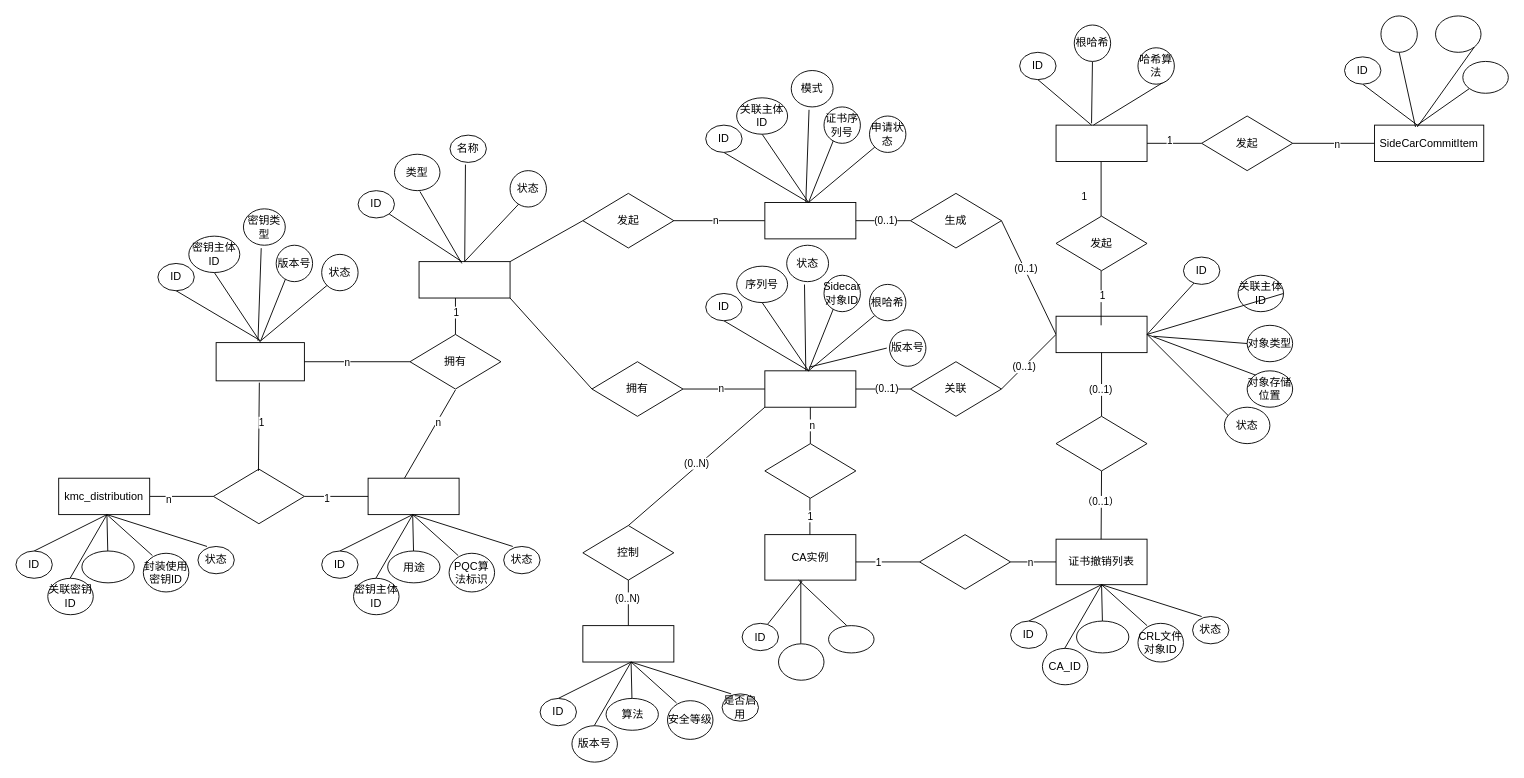
The diagram is 1524 pixels wide and 778 high, and some of its shapes have lost their labels. Here are the shapes that lost their labels. From the top down, the centre of each, then its label:
At (x=1398, y=33): "对象ID".
At (x=1458, y=33): "叶子序号".
At (x=1485, y=77): "叶子哈希".
At (x=1101, y=143): "SidecarCommit".
At (x=810, y=220): "证书申请".
At (x=464, y=279): "主体".
At (x=1101, y=334): "SidecarObject".
At (x=259, y=361): "kmc-kek".
At (x=810, y=388): "证书".
At (x=1101, y=443): "存储".
At (x=810, y=470): "签发".
At (x=258, y=496): "分发".
At (x=413, y=496): "kmc_key".
At (x=107, y=566): "主体ID".
At (x=965, y=561): "发布".
At (x=628, y=643): "sys_pqc_policy".
At (x=851, y=639): "CA状态".
At (x=1102, y=636): "CRL版本号".
At (x=801, y=661): "CA名称".
